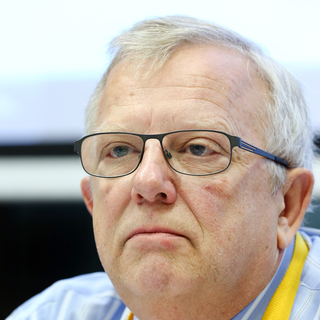eye: (177, 140, 222, 163), (96, 141, 135, 165)
